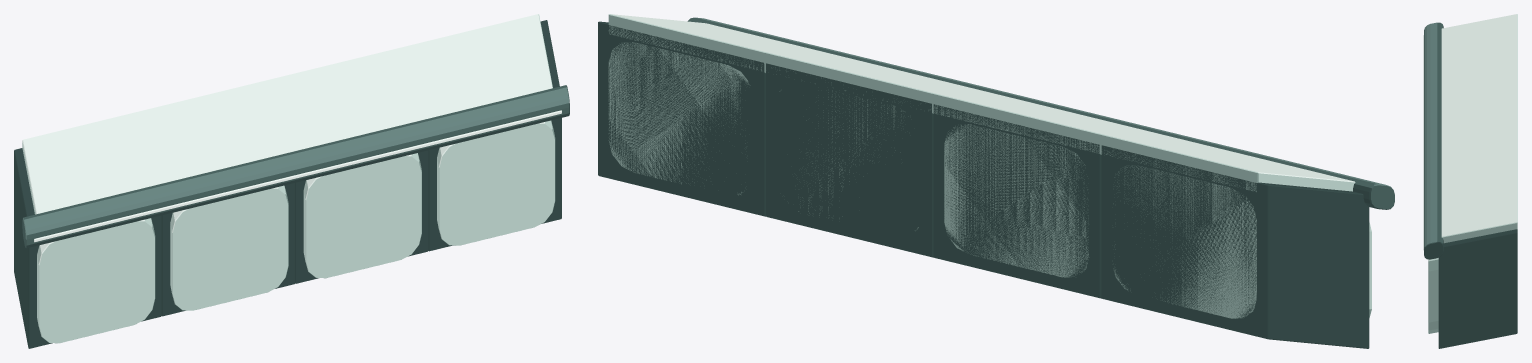
Rendered from Terrain_TopRun4LR.gltf.
3 views of the same model, side by side, from view 1: azimuth 30°, elevation 25°; view 2: azimuth 150°, elevation 25°; view 3: azimuth 270°, elevation 25° (orthographic). The views are drawn at different scales.
Parts seen in each view (by area): view 1: Terrain_TopRun4LR_baked; view 2: Terrain_TopRun4LR_baked; view 3: Terrain_TopRun4LR_baked.
Part boxes in pixels (x1,y1,x2,y2): Terrain_TopRun4LR_baked: [14, 14, 569, 348]; Terrain_TopRun4LR_baked: [598, 14, 1394, 348]; Terrain_TopRun4LR_baked: [1423, 14, 1517, 348].
Size of the model in its own units: 4.33 by 1.18 by 0.74.
